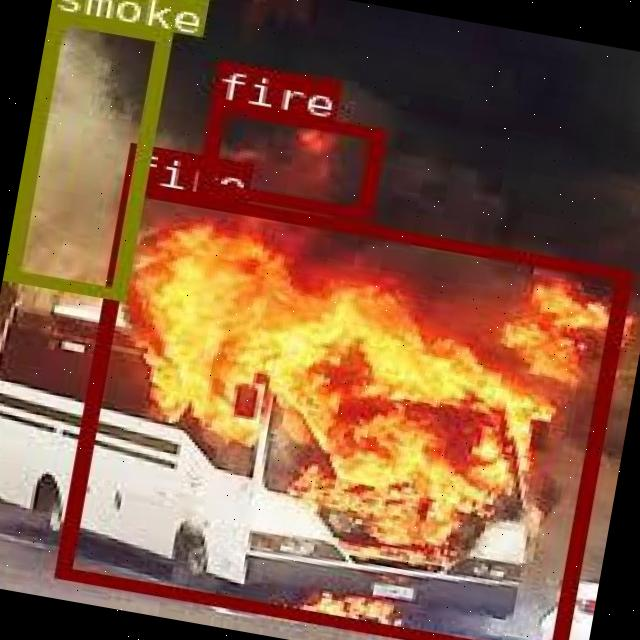fire: (51, 180, 628, 640), (195, 98, 383, 218)
smoke: (2, 10, 166, 299)
